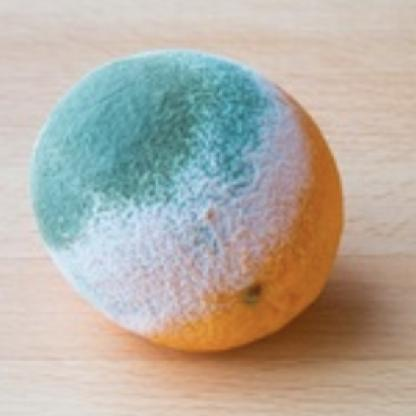rotten: (33, 54, 349, 358)
